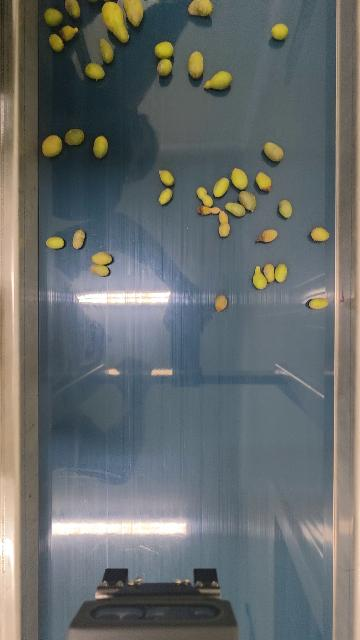Baby Potato: (101, 1, 131, 43), (204, 69, 233, 91), (122, 0, 144, 27), (41, 133, 63, 157), (187, 50, 205, 79), (187, 0, 215, 18), (98, 36, 115, 64), (264, 140, 285, 162), (43, 6, 64, 27), (238, 189, 257, 212), (231, 167, 249, 190), (92, 135, 109, 159), (154, 40, 175, 59), (85, 62, 106, 81), (217, 210, 231, 238), (224, 201, 247, 218), (64, 128, 85, 146), (253, 263, 267, 290), (213, 176, 230, 198), (269, 22, 288, 41), (63, 0, 82, 19), (255, 171, 272, 192), (196, 186, 213, 207), (90, 251, 113, 266), (156, 57, 173, 77), (71, 228, 87, 249), (307, 296, 330, 310), (278, 198, 293, 219), (158, 169, 175, 187), (311, 226, 330, 242), (48, 33, 64, 52), (59, 25, 79, 40), (274, 262, 288, 283), (90, 263, 111, 277), (263, 262, 276, 284), (260, 228, 278, 243), (158, 187, 173, 205), (46, 236, 65, 250), (214, 294, 228, 312)
